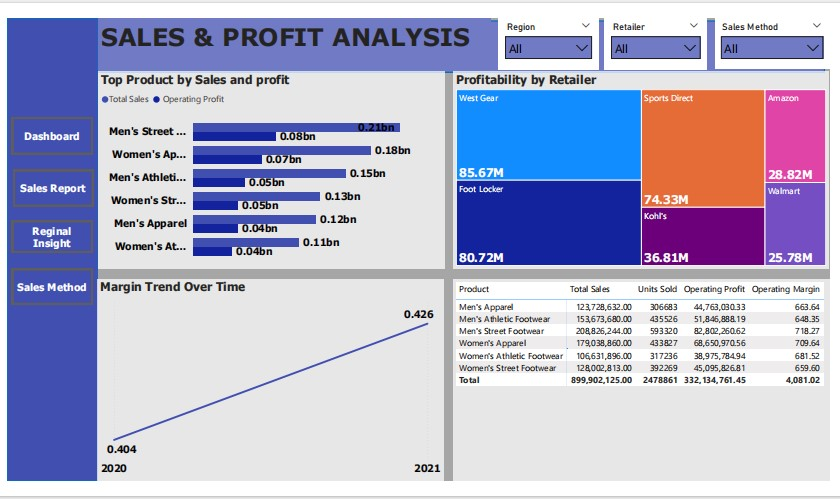

This screenshot's page, from the dashboard's own definition file:
{"tool":"powerbi","page":{"name":"Sales Rports","canvas":[1280,720],"ordinal":1},"visuals":[{"type":"shape","box":[134.5,4.3,1137.8,79.5],"z":0},{"type":"shape","box":[0,0,140.6,720.5],"z":1000},{"type":"actionButton","box":[7.2,153.7,126.1,58],"z":2000},{"type":"textbox","box":[141.4,0,610.2,78.9],"z":3000},{"type":"actionButton","box":[7.2,314.6,126.1,50.7],"z":4000},{"type":"actionButton","box":[7.2,389.9,126.1,56.5],"z":5000},{"type":"actionButton","box":[9.4,236.2,124.4,56.7],"z":6000},{"type":"clusteredBarChart","title":"Top Product by Sales and profit","fields":{"Category":["Data Sales Adidas.Product"],"Y":["Sum(Data Sales Adidas.Total Sales)","Sum(Data Sales Adidas.Operating Profit)"]},"box":[141.4,83.3,538.8,306.6],"z":7000},{"type":"treemap","title":"Profitability by Retailer","fields":{"Group":["Data Sales Adidas.Retailer"],"Values":["Sum(Data Sales Adidas.Operating Profit)"]},"box":[693.6,83.3,584.9,306.6],"z":8000},{"type":"lineChart","title":" Margin Trend Over Time ","fields":{"Y":["Avg(Data Sales Adidas.Operating Margin)"],"Category":["Calender.Date Hierarchy.Days","Calender.Date Hierarchy.Month","Calender.Date Hierarchy.Quater","Calender.Date Hierarchy.Year"]},"box":[139.9,406.3,540.3,314],"z":9000},{"type":"pivotTable","title":"Product Performances","fields":{"Rows":["Data Sales Adidas.Product"],"Values":["Sum(Data Sales Adidas.Total Sales)","Sum(Data Sales Adidas.Units Sold)","Sum(Data Sales Adidas.Operating Profit)","Sum(Data Sales Adidas.Operating Margin)"]},"box":[693.6,406.3,586.4,314],"z":10000},{"type":"slicer","fields":{"Values":["Location.Region"]},"box":[764.8,0,154.7,79.5],"z":10001},{"type":"slicer","fields":{"Values":["Data Sales Adidas.Retailer"]},"box":[929.6,0,159,79.5],"z":10002},{"type":"slicer","fields":{"Values":["Data Sales Adidas.Sales Method"]},"box":[1100.6,0,179.3,79.3],"z":10003}]}

Visuals, with their boxes on the page's 1280x720 design canvas (x1, y1, x2, y2). These are canvas units, not pixel positions in the 840x499 screenshot, which may show the page scaled, cropped or inside an application window:
shape: x1=134 y1=4 x2=1272 y2=84
shape: x1=0 y1=0 x2=141 y2=720
actionButton: x1=7 y1=154 x2=133 y2=212
textbox: x1=141 y1=0 x2=752 y2=79
actionButton: x1=7 y1=315 x2=133 y2=365
actionButton: x1=7 y1=390 x2=133 y2=446
actionButton: x1=9 y1=236 x2=134 y2=293
"Top Product by Sales and profit" clusteredBarChart: x1=141 y1=83 x2=680 y2=390
"Profitability by Retailer" treemap: x1=694 y1=83 x2=1278 y2=390
" Margin Trend Over Time " lineChart: x1=140 y1=406 x2=680 y2=720
"Product Performances" pivotTable: x1=694 y1=406 x2=1280 y2=720
slicer - Location.Region: x1=765 y1=0 x2=920 y2=80
slicer - Data Sales Adidas.Retailer: x1=930 y1=0 x2=1089 y2=80
slicer - Data Sales Adidas.Sales Method: x1=1101 y1=0 x2=1280 y2=79
